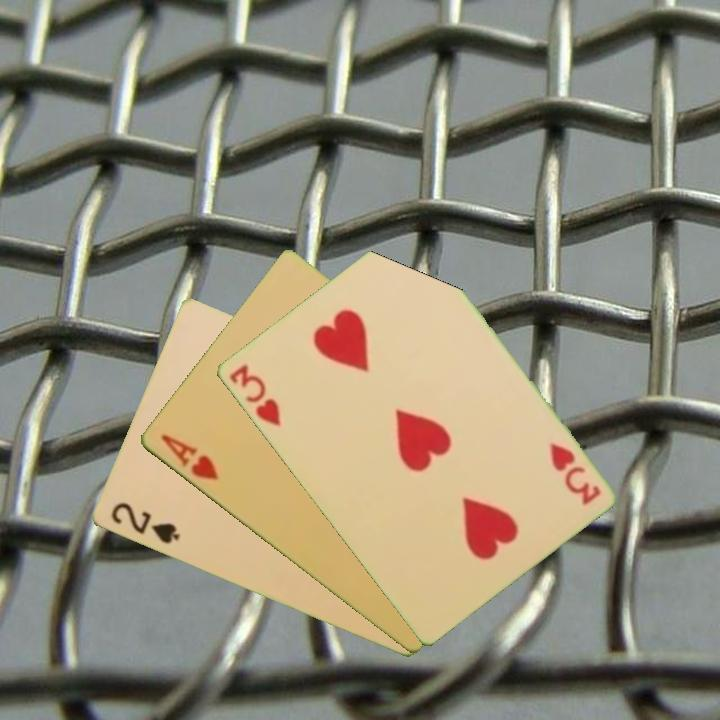2s: (107, 499, 183, 547)
3h: (225, 360, 284, 430), (545, 438, 603, 508)
Ah: (156, 430, 221, 483)
